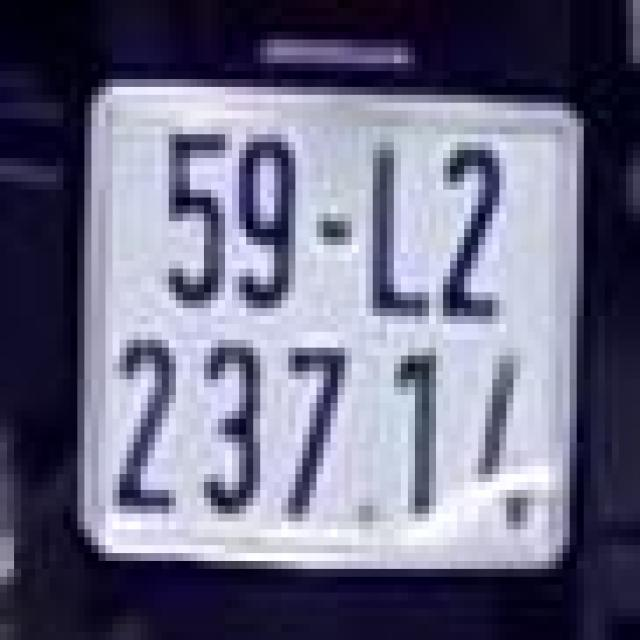1: (390, 344, 461, 557)
2: (98, 312, 183, 526), (446, 126, 503, 340)
3: (197, 320, 274, 533)
4: (468, 340, 545, 553)
5: (155, 118, 232, 324)
7: (281, 336, 366, 525)
9: (232, 103, 303, 324)
L: (348, 118, 440, 332)
